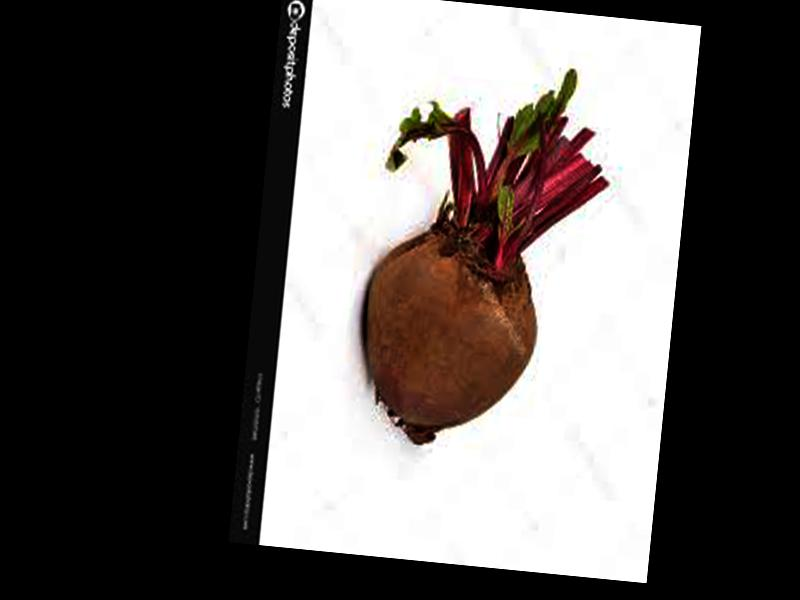Beet: (350, 51, 619, 460)
